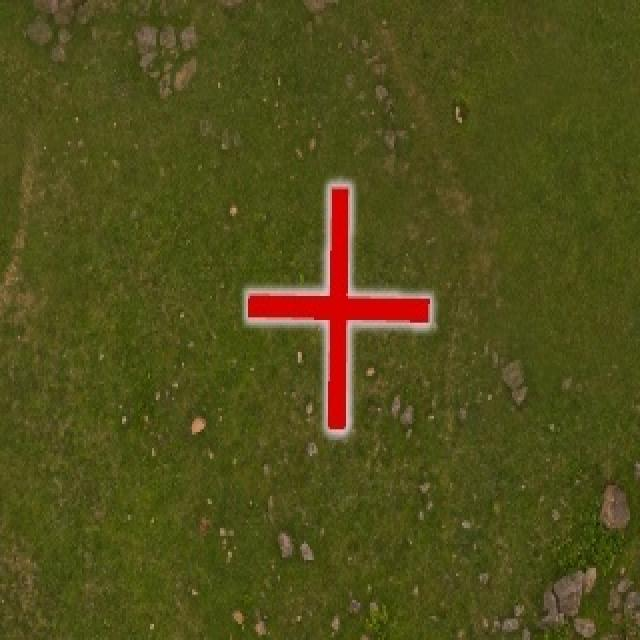x_marker: (247, 185, 429, 431)
